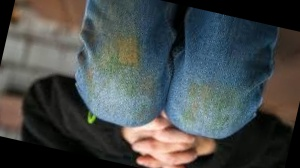earth: (93, 60, 157, 99), (183, 81, 235, 125), (110, 34, 144, 68)
